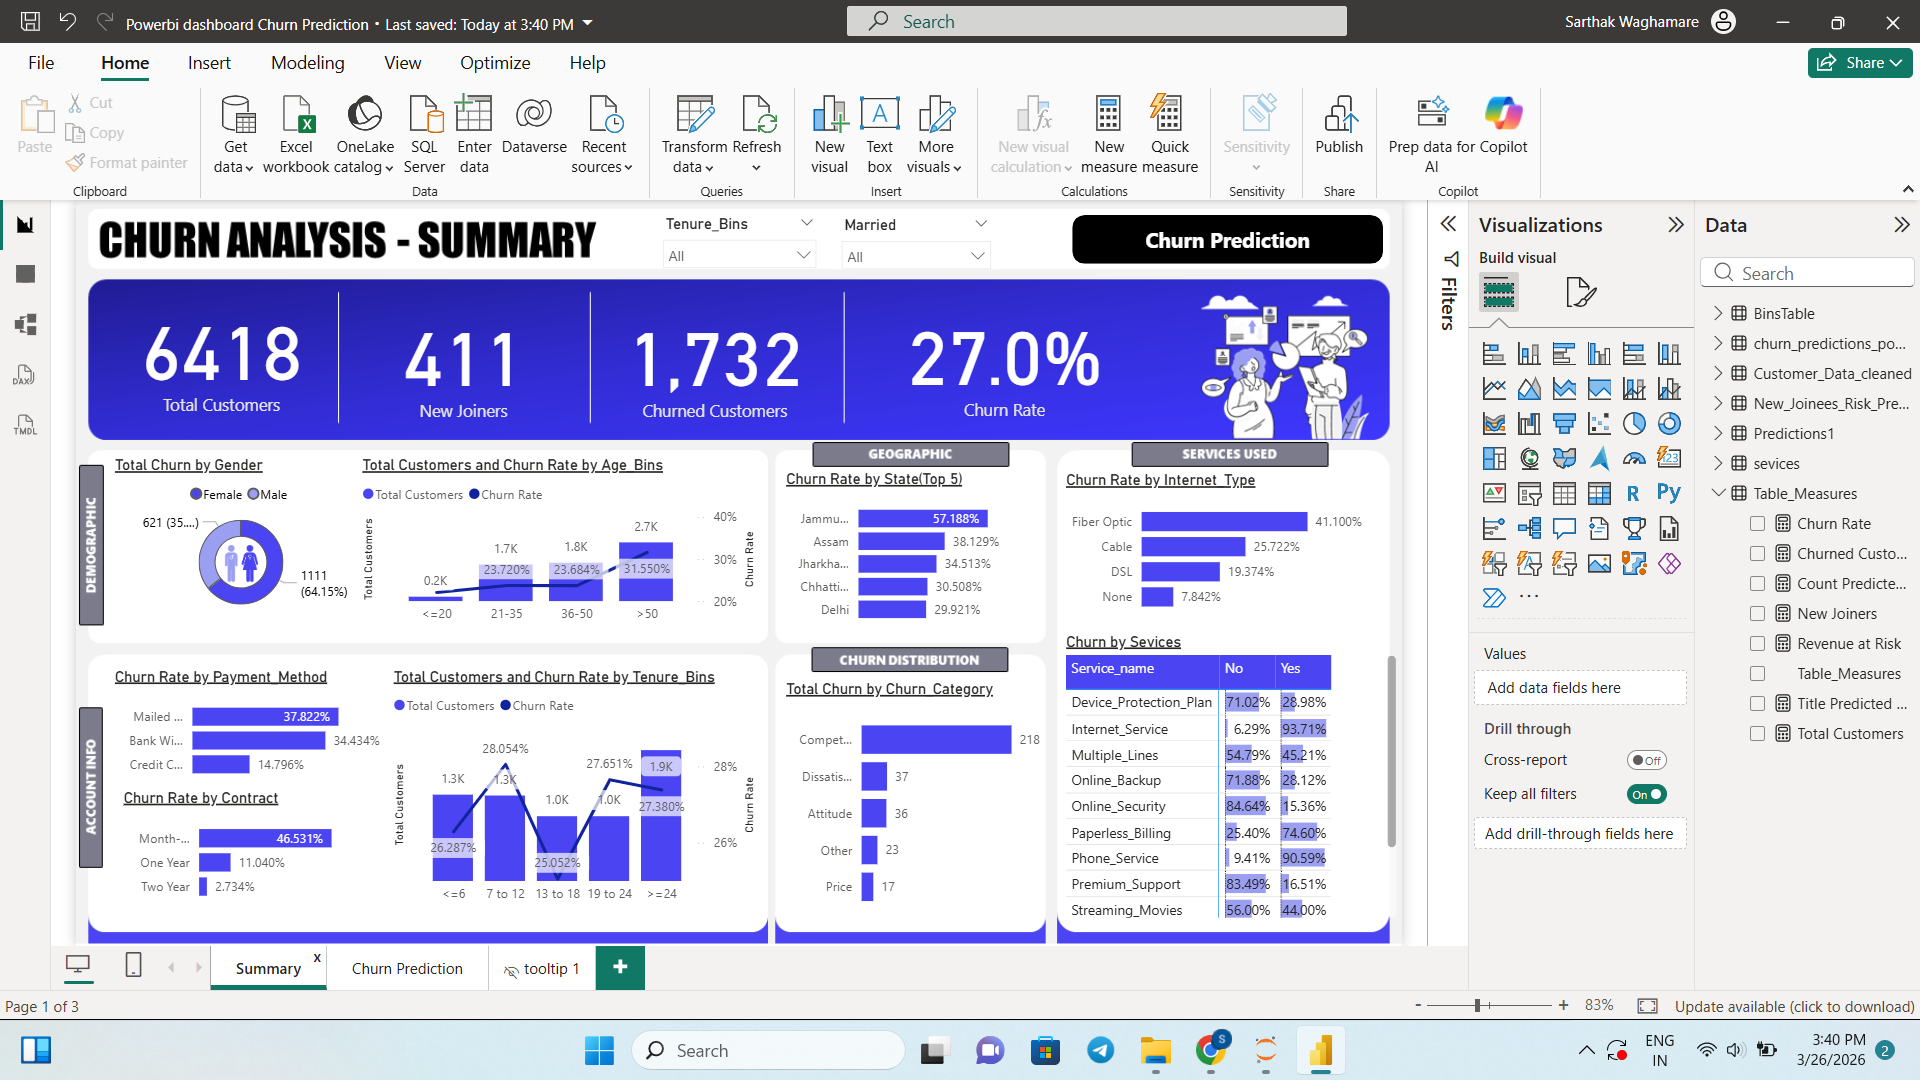

What the dashboard file says about the page in this screenshot:
{"tool":"powerbi","page":{"name":"Summary","canvas":[1280,720],"ordinal":0},"visuals":[{"type":"image","box":[132.5,327.5,55,46.2],"z":0},{"type":"card","fields":{"Values":["Table_Measures.Total Customers"]},"box":[32.5,83.8,216.2,131.2],"z":1000},{"type":"card","fields":{"Values":["Table_Measures.New Joiners"]},"box":[262.5,93.8,222.5,121.2],"z":2000},{"type":"card","fields":{"Values":["Table_Measures.Churned Customers"]},"box":[503.8,93.8,225,121.2],"z":3000},{"type":"card","fields":{"Values":["Table_Measures.Churn Rate"]},"box":[756.2,83.8,280,141.2],"z":4000},{"type":"donutChart","title":"Total Churn by Gender","fields":{"Category":["Customer_Data_cleaned.Gender"],"Y":["Table_Measures.Churned Customers"]},"box":[32.5,247.5,253.8,160],"z":5000},{"type":"lineStackedColumnComboChart","fields":{"Y":["Table_Measures.Total Customers"],"Y2":["Table_Measures.Churn Rate"],"Category":["BinsTable.Age_Bins"]},"box":[271.2,247.5,390,170],"z":6000},{"type":"clusteredBarChart","fields":{"Category":["Customer_Data_cleaned.Payment_Method"],"Y":["Table_Measures.Churn Rate"]},"box":[32.5,451.2,268.8,117.5],"z":7000},{"type":"clusteredBarChart","fields":{"Y":["Table_Measures.Churn Rate"],"Category":["Customer_Data_cleaned.Contract"]},"box":[41.2,568.8,260,118.8],"z":8000},{"type":"lineStackedColumnComboChart","fields":{"Category":["BinsTable.Tenure_Bins"],"Y":["Table_Measures.Total Customers"],"Y2":["Table_Measures.Churn Rate"]},"box":[301.2,451.2,360,236.2],"z":9000},{"type":"clusteredBarChart","title":"Churn Rate by State(Top 5)","fields":{"Category":["Customer_Data_cleaned.State"],"Y":["Table_Measures.Churn Rate"]},"box":[680,260,246.2,157.5],"z":10000},{"type":"clusteredBarChart","title":"Total Churn by Churn_Category","fields":{"Category":["Customer_Data_cleaned.Churn_Category"],"Y":["Table_Measures.Churned Customers"]},"box":[680,463.8,258.8,233.8],"z":11000},{"type":"clusteredBarChart","fields":{"Y":["Table_Measures.Churn Rate"],"Category":["Customer_Data_cleaned.Internet_Type"]},"box":[951.2,261.2,300,146.2],"z":12000},{"type":"pivotTable","title":"Churn by Sevices","fields":{"Rows":["sevices.Service_name"],"Columns":["sevices.Service_status"],"Values":["Sum(sevices.Churn_Status)"]},"box":[951.2,417.5,328.8,280],"z":13000},{"type":"slicer","fields":{"Values":["BinsTable.Tenure_Bins"]},"box":[555.7,10,168.6,55.7],"z":14000},{"type":"slicer","fields":{"Values":["Customer_Data_cleaned.Married"]},"box":[728.6,11.4,164.3,55.7],"z":15000},{"type":"shape","box":[961.4,14.3,300,47.1],"z":16000}]}

Visuals, with their boxes on the page's 1280x720 design canvas (x1, y1, x2, y2). These are canvas units, not pixel positions in the 1920x1080 screenshot, which may show the page scaled, cropped or inside an application window:
image: bbox(132, 328, 188, 374)
card - Table_Measures.Total Customers: bbox(32, 84, 249, 215)
card - Table_Measures.New Joiners: bbox(262, 94, 485, 215)
card - Table_Measures.Churned Customers: bbox(504, 94, 729, 215)
card - Table_Measures.Churn Rate: bbox(756, 84, 1036, 225)
"Total Churn by Gender" donutChart: bbox(32, 248, 286, 408)
lineStackedColumnComboChart - Table_Measures.Total Customers x Table_Measures.Churn Rate: bbox(271, 248, 661, 418)
clusteredBarChart - Customer_Data_cleaned.Payment_Method x Table_Measures.Churn Rate: bbox(32, 451, 301, 569)
clusteredBarChart - Table_Measures.Churn Rate x Customer_Data_cleaned.Contract: bbox(41, 569, 301, 688)
lineStackedColumnComboChart - BinsTable.Tenure_Bins x Table_Measures.Total Customers: bbox(301, 451, 661, 687)
"Churn Rate by State(Top 5)" clusteredBarChart: bbox(680, 260, 926, 418)
"Total Churn by Churn_Category" clusteredBarChart: bbox(680, 464, 939, 698)
clusteredBarChart - Table_Measures.Churn Rate x Customer_Data_cleaned.Internet_Type: bbox(951, 261, 1251, 407)
"Churn by Sevices" pivotTable: bbox(951, 418, 1280, 698)
slicer - BinsTable.Tenure_Bins: bbox(556, 10, 724, 66)
slicer - Customer_Data_cleaned.Married: bbox(729, 11, 893, 67)
shape: bbox(961, 14, 1261, 61)
